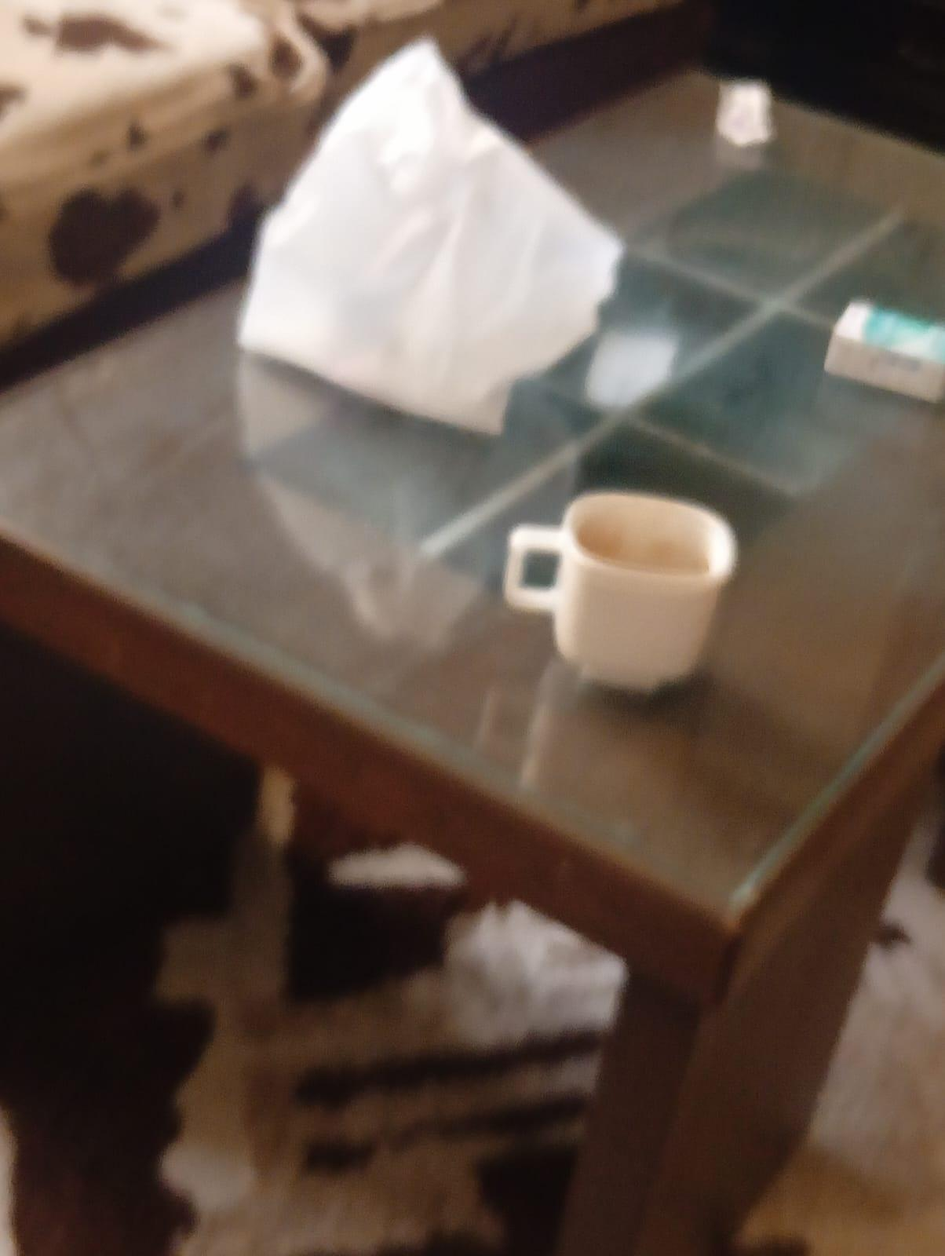cup: (505, 493, 736, 690)
